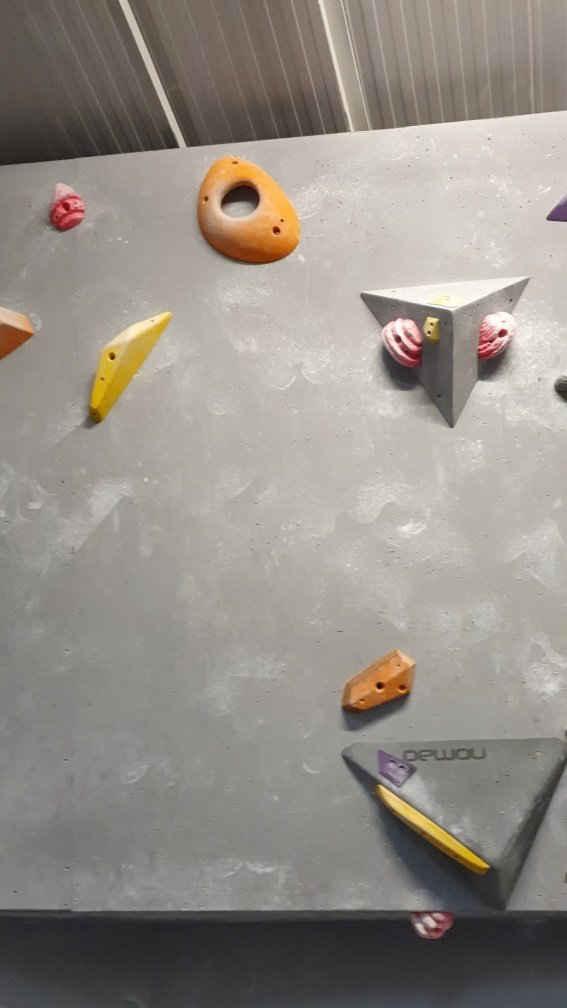Jug: (383, 316, 428, 373), (479, 311, 514, 368)
Pinch: (84, 312, 176, 430), (340, 644, 421, 716)
Pocket: (192, 155, 298, 262)
